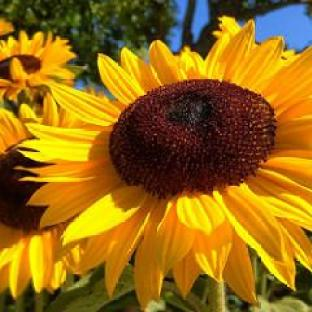sunflower: (17, 20, 312, 312)
